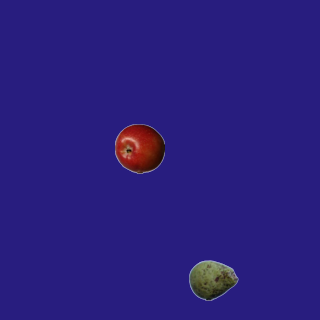Apple Braeburn: (114, 123, 164, 173)
Pear Stone: (188, 255, 238, 305)
